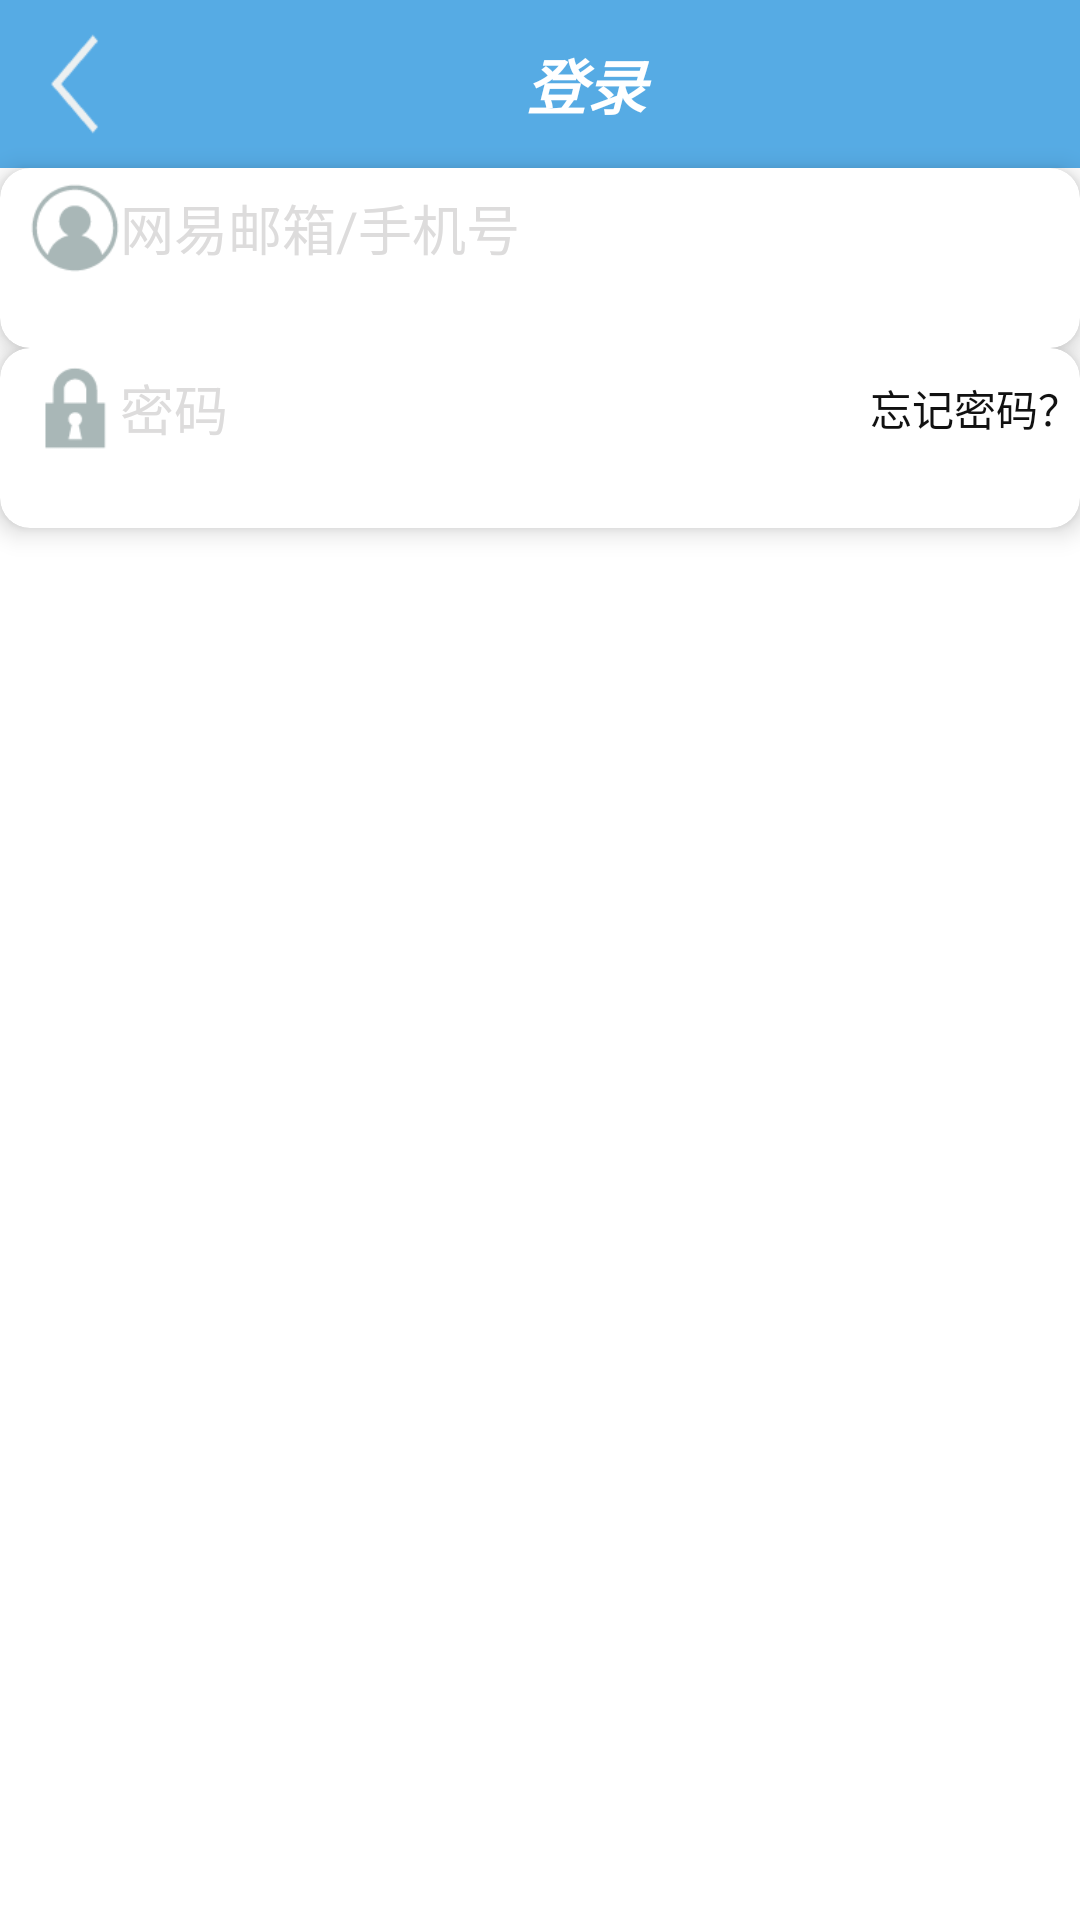

Icons on this 1080 x 1920 Android screen, each with its box as (x1, y1, x2, y2):
back write: (51, 35, 98, 133)
denglu: (32, 185, 118, 271)
